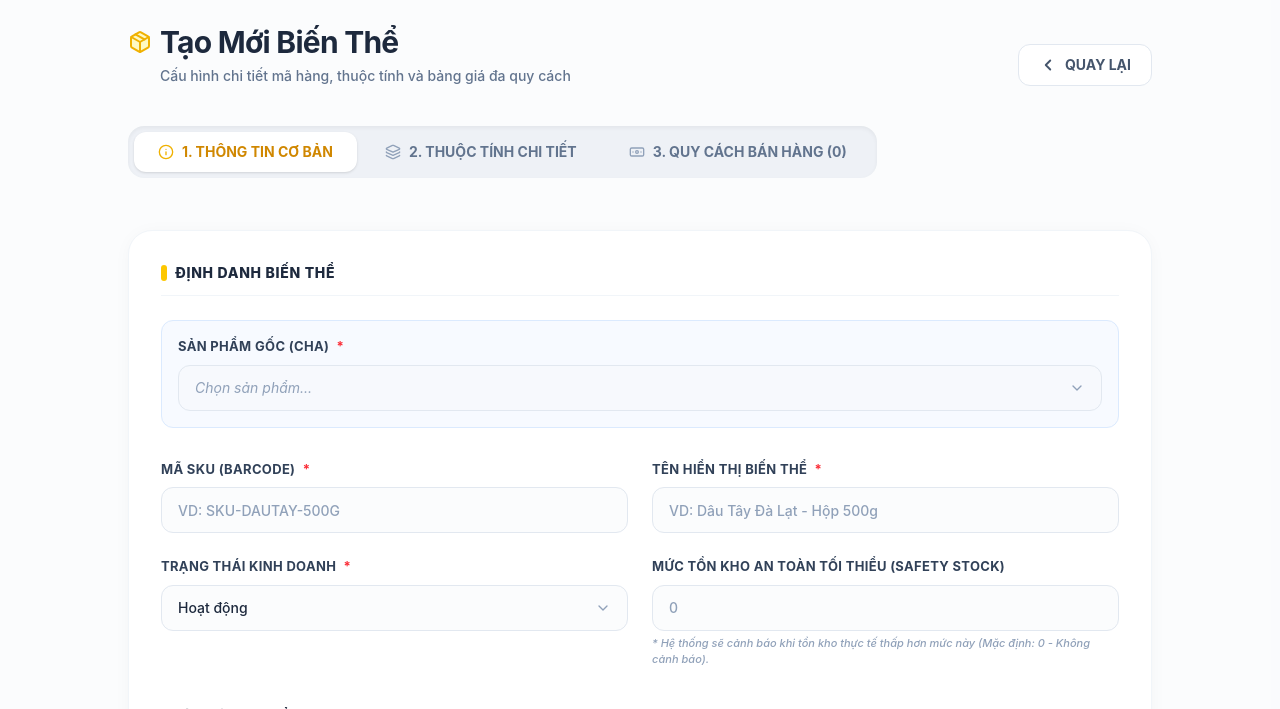
Test: Module 05 - ProductVariantForm Component › TC07 - Tự động nhận diện Đơn vị tính cơ sở của sản phẩm và điền vào dòng đầu tiên khi chuyển sang Tab 3
The image size is (1280, 709).
Step 1. Click the text "Chọn sản phẩm..." → x=254, y=388, box [195,378,312,398]
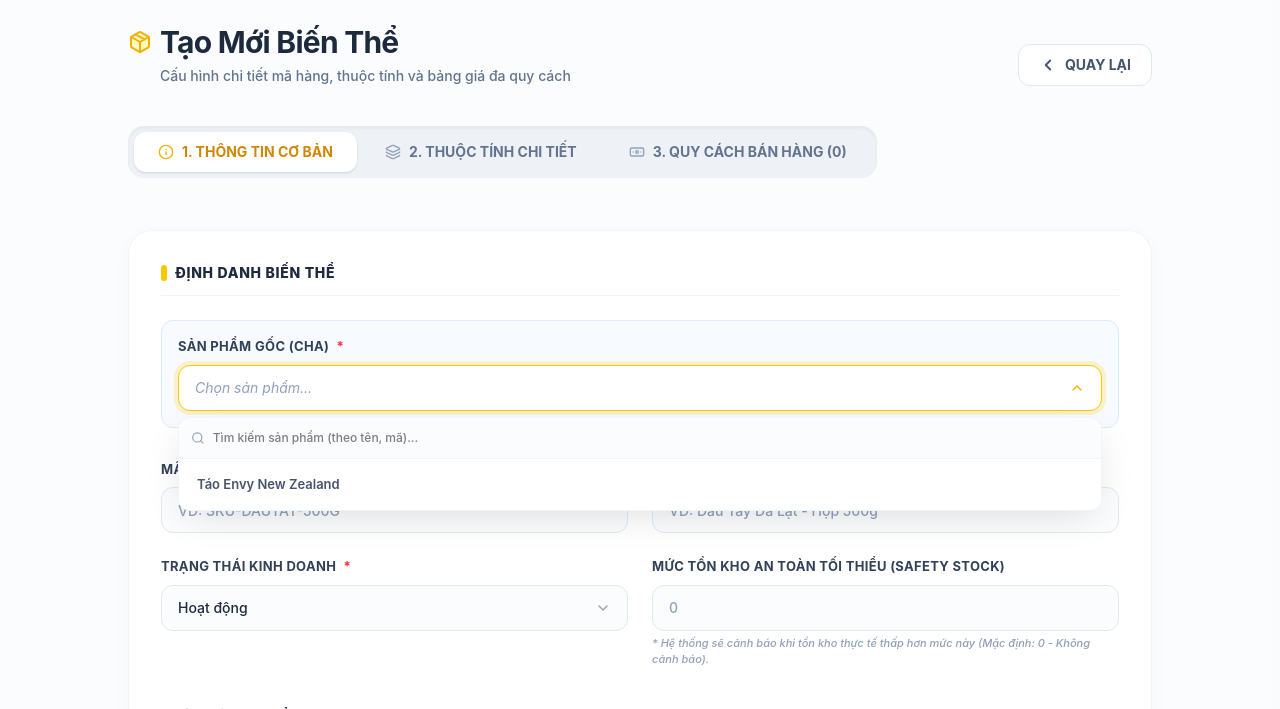
Step 2. Click the text "Táo Envy New Zealand" → x=268, y=484, box [197,476,340,492]
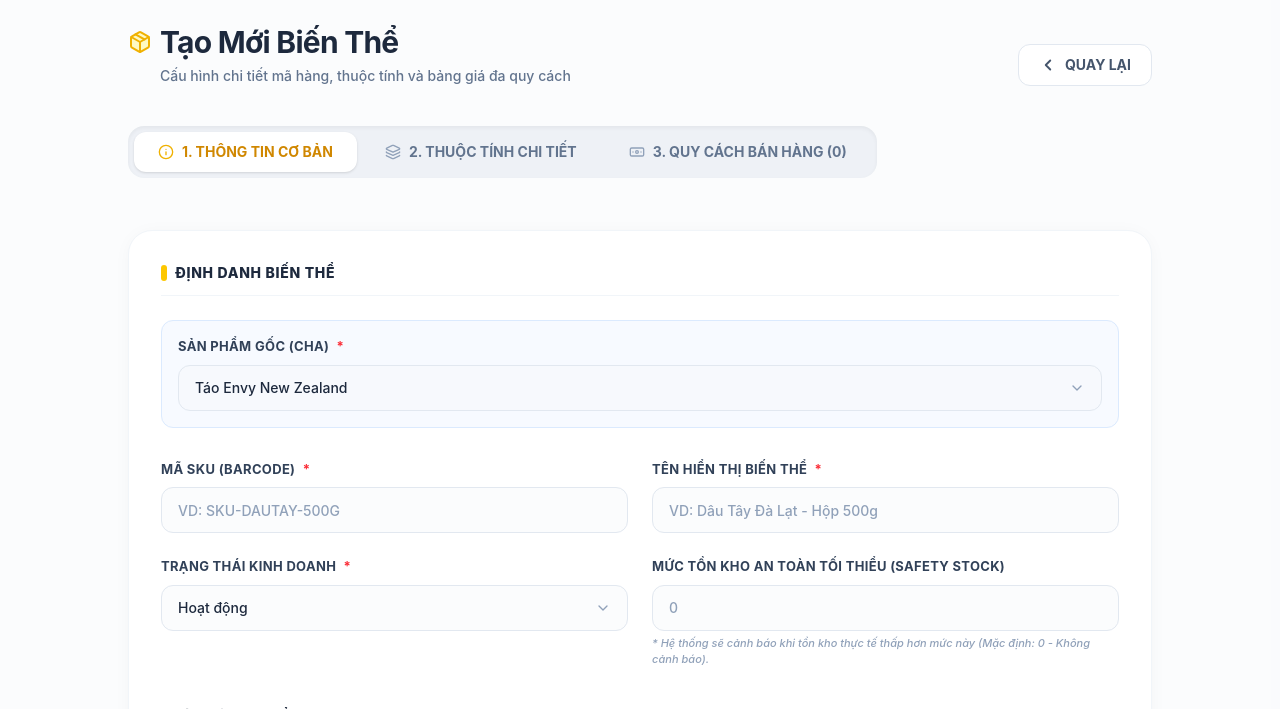
// Chuyển sang Tab 3 (Quy cách bán hàng)
Step 3. Click the button "3. QUY CÁCH BÁN HÀNG (0)" → x=738, y=152, box [605,132,871,172]
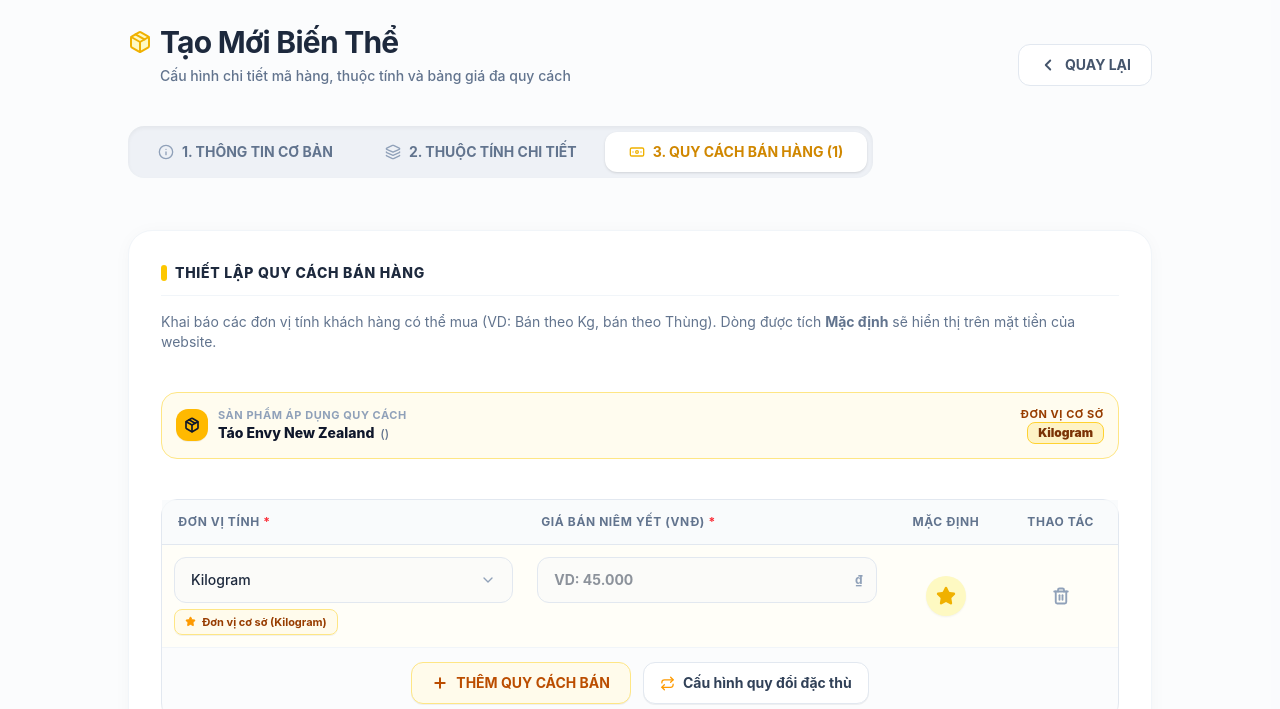
Result: the text "Đơn vị cơ sở (Kilogram)" is shown at [202,614,327,630]
Result: the button titled "Đang làm mặc định" is shown at [926,576,966,616]
